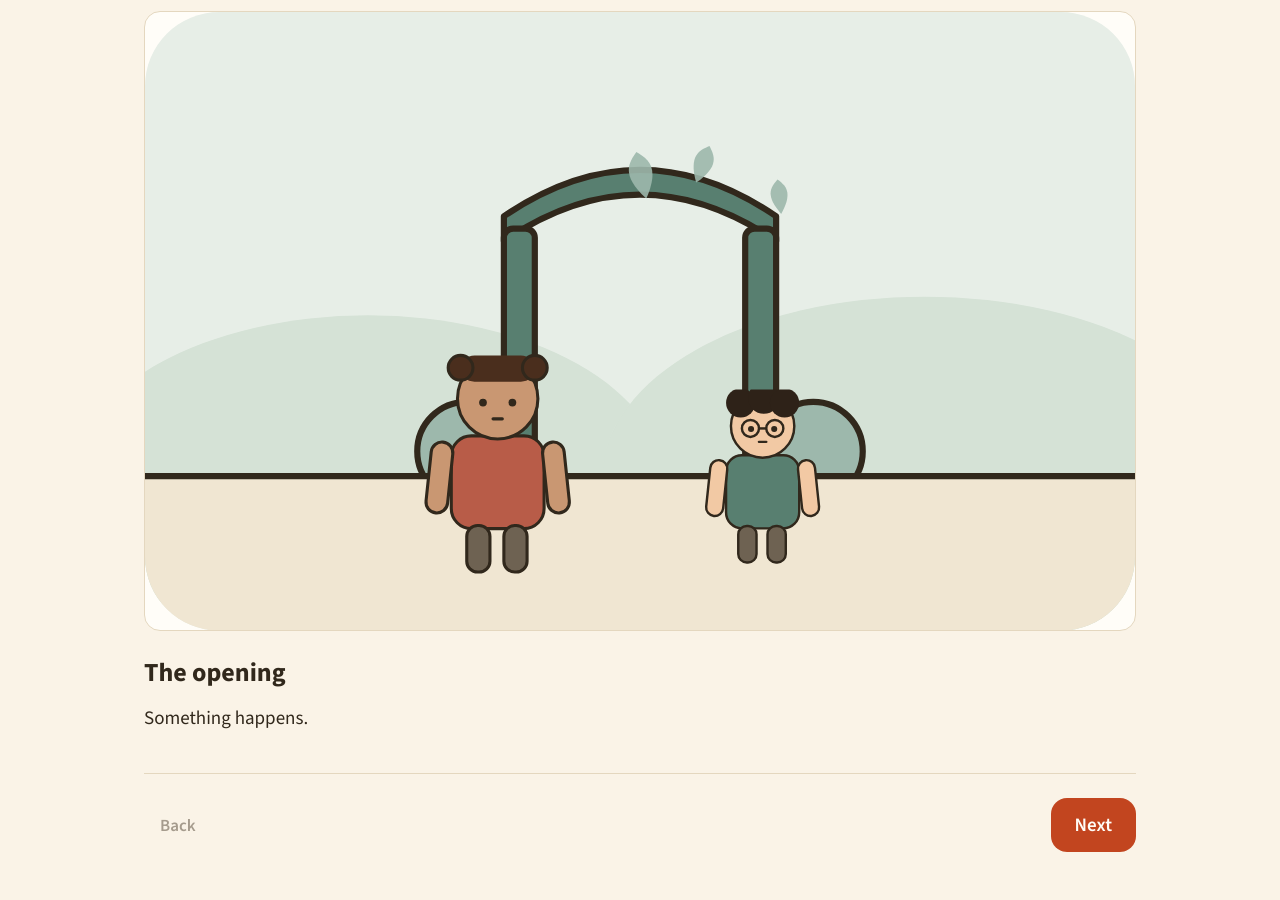
Test: LessonRunner › will not move past the decision until a choice is made
(page scrolled)
Step 1. Click the button "Next" → (1093, 825), box [1051,798,1136,852]
(page scrolled)
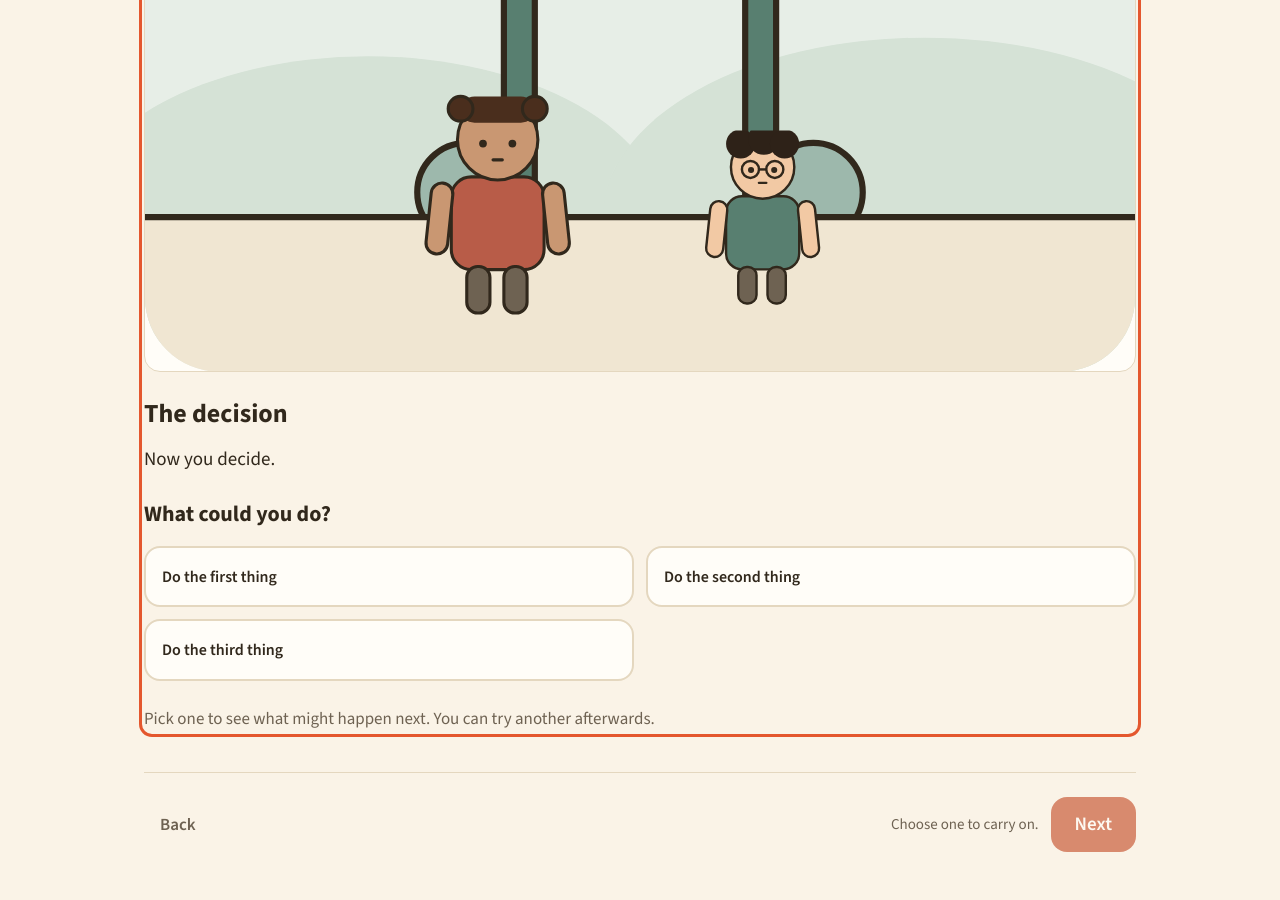
Now the heading "What could you do?" is shown, box [144,499,331,528]
Now the button "Next" is disabled, box [1051,797,1136,852]
Now the text "Choose one to carry on." is shown, box [891,813,1039,836]
